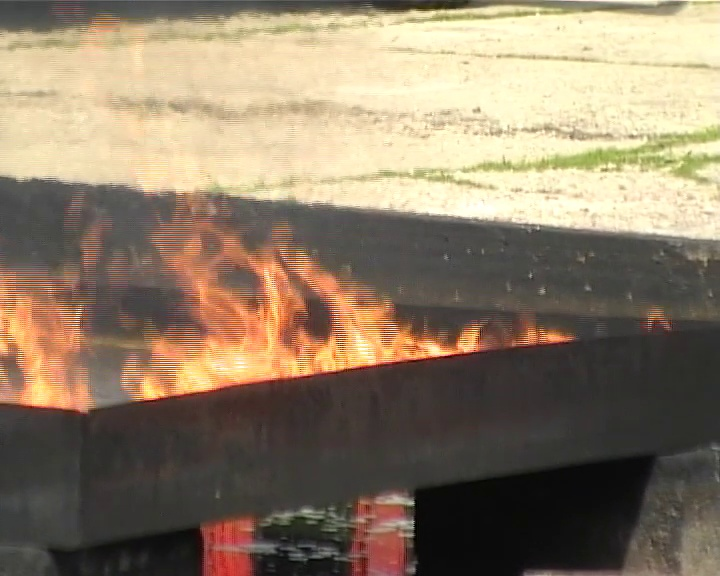fire: (1, 223, 553, 406)
